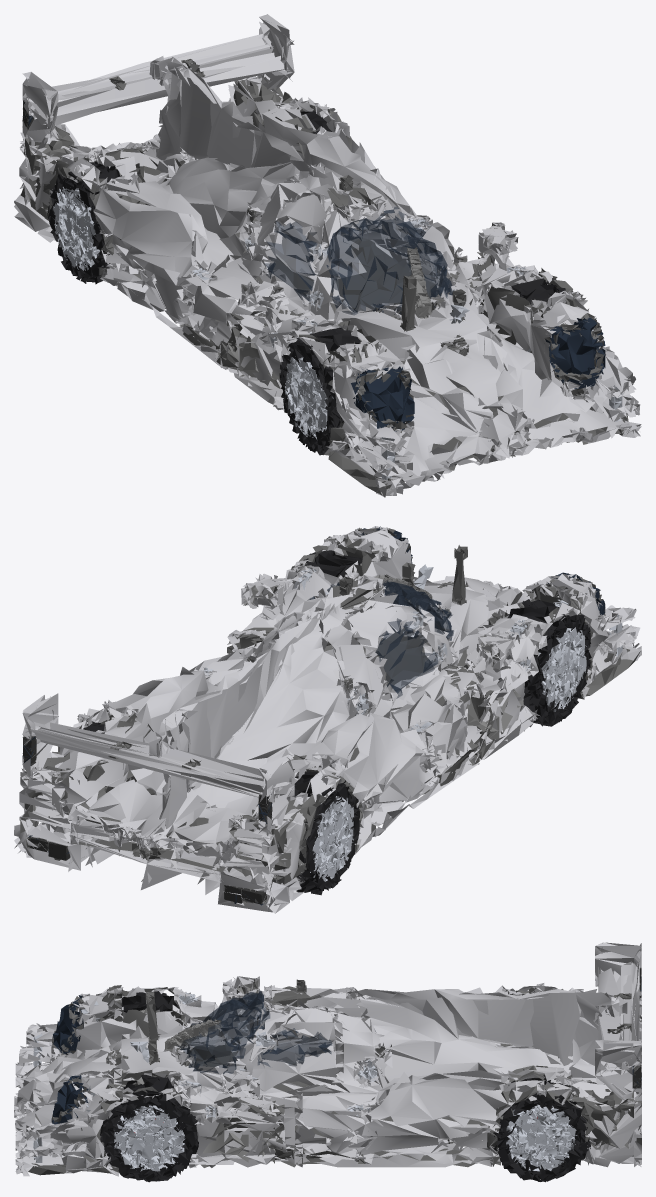
Rendered from oreca-07.obj.
3 views of the same model, one above another, from view 1: azimuth 30°, elevation 25°; view 2: azimuth 150°, elevation 25°; view 3: azimuth 270°, elevation 25° (orthographic). The views are drawn at different scales.
Visible parts, largest first — view 1: BODY, GLASS, WHEEL_RF, WHEEL_RR, WHEEL_LF; view 2: BODY, WHEEL_RF, WHEEL_RR, GLASS, WHEEL_LF; view 3: BODY, GLASS, WHEEL_LF, WHEEL_LR, WHEEL_RF.
Part boxes in pixels (x1,y1,x2,y2): BODY: (14,14,641,497); GLASS: (22,102,605,431); WHEEL_RF: (279,327,361,455); WHEEL_RR: (48,161,122,284); WHEEL_LF: (511,278,565,353); BODY: (14,526,641,913); WHEEL_RF: (498,599,591,726); WHEEL_RR: (255,771,360,895); GLASS: (23,526,604,905); WHEEL_LF: (303,550,365,649); BODY: (14,942,641,1176); GLASS: (51,976,641,1128); WHEEL_LF: (100,1074,198,1182); WHEEL_LR: (493,1074,591,1182); WHEEL_RF: (122,990,179,1013).
Size of the model in its own units: 1.94 by 1.26 by 4.75.
